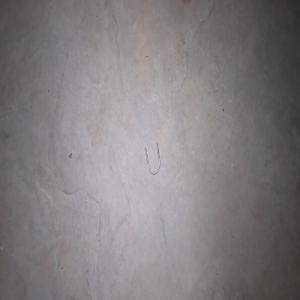ClampPart: (144, 141, 160, 175)
